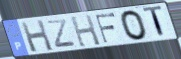F: (94, 12, 117, 45)
H: (20, 19, 56, 54), (69, 14, 102, 49)
O: (119, 9, 149, 42)
T: (142, 5, 167, 40)
Z: (45, 18, 78, 50)
